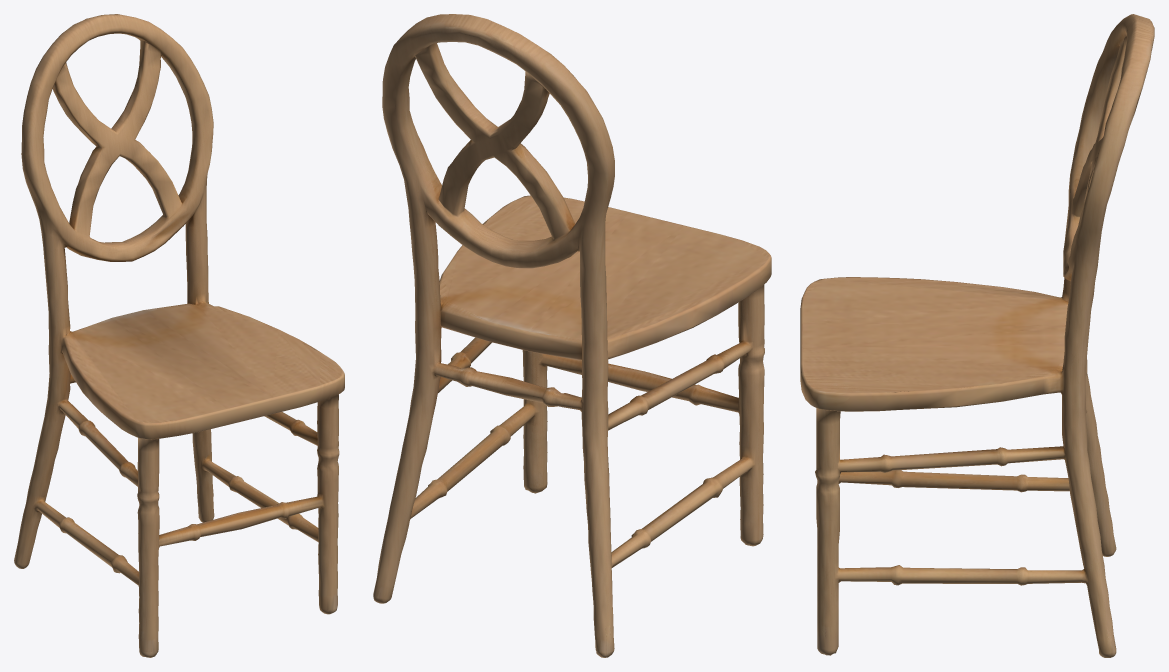
The model's file is Chair_Infinity_Fruit_0320031758_texture.glb.
The picture shows the model from 3 angles, left to right: view 1: azimuth 30°, elevation 25°; view 2: azimuth 150°, elevation 25°; view 3: azimuth 270°, elevation 25°; orthographic projection. The views are drawn at different scales.
Visible parts, largest first — view 1: Mesh_0; view 2: Mesh_0; view 3: Mesh_0.
Boxes of the visible parts, x1,y1,x2,y2 form: Mesh_0: [14, 14, 344, 657]; Mesh_0: [373, 14, 771, 657]; Mesh_0: [800, 14, 1154, 657].
Size of the model in its own units: 0.3962 by 0.9144 by 0.5032.
Materials: 1 (1 with a texture image).
